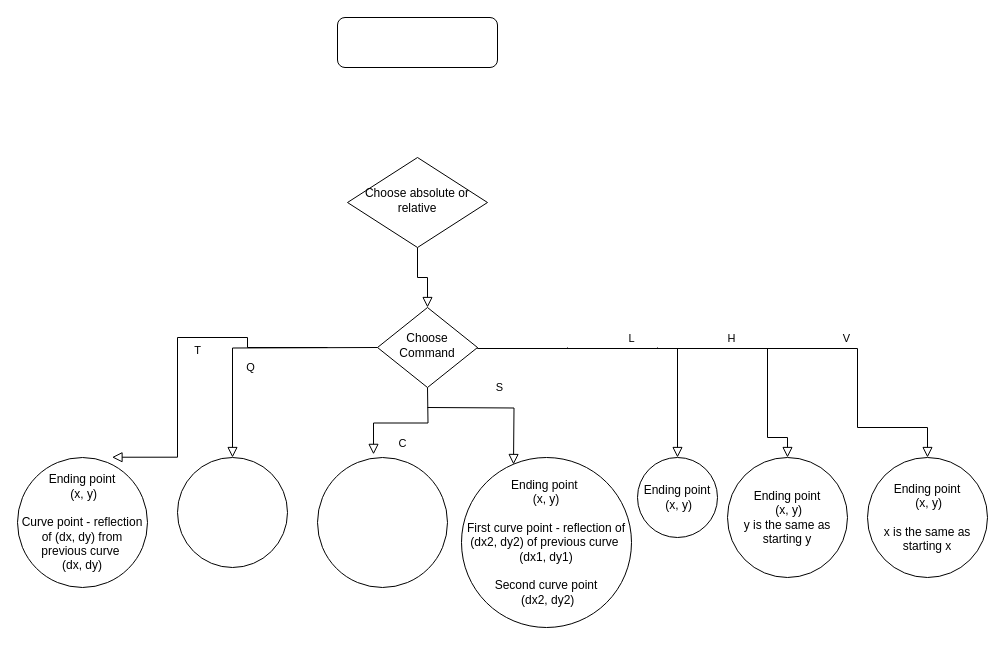
Some shapes in this 1005 by 645 pixel diagram are drawn without their labels. The shapes that lost their labels are listed below. From the top down, each one's centre as x and y in pixels, then its label:
[417,42]: Default path
[232,512]: Ending point (x, y) Curve point (dx, dy)
[382,522]: Ending point (x, y) First curve point (dx1, dy1) Second curve point (dx2, dy2)
